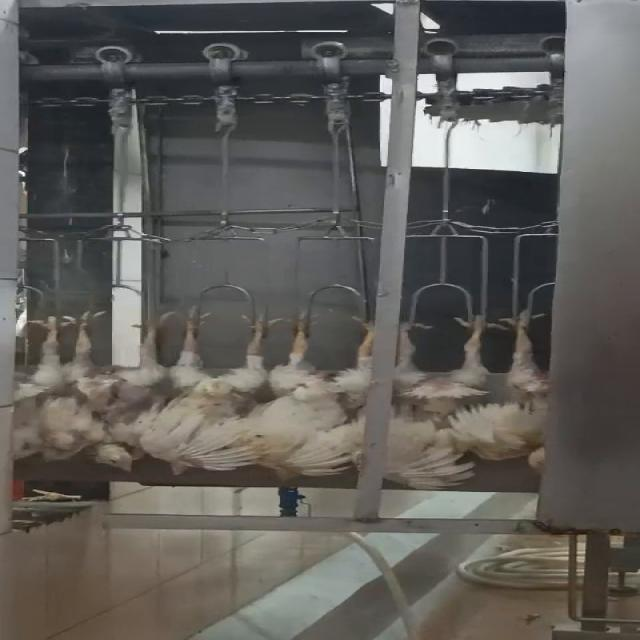chicken: (370, 304, 512, 490), (263, 313, 384, 483), (57, 310, 181, 474), (165, 310, 272, 478), (0, 313, 101, 470), (474, 291, 554, 477)
